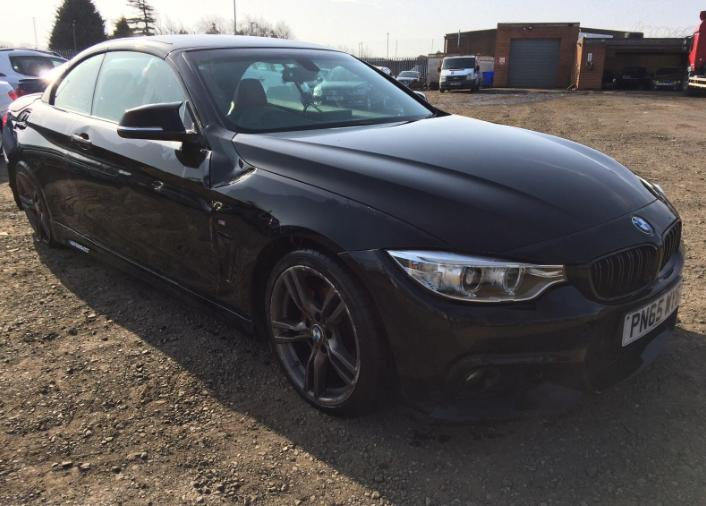Back-wheel: (15, 160, 69, 248)
Back-window: (54, 54, 103, 112)
Fender: (204, 123, 455, 317)
Front-bumper: (337, 248, 683, 423)
Front-door: (67, 44, 219, 299)
Front-wheel: (265, 248, 393, 416)
Front-window: (92, 51, 186, 122)
Grille: (568, 243, 659, 303), (661, 219, 682, 270)
Headlight: (383, 250, 569, 302)
Hood: (232, 114, 679, 264)
License-plate: (622, 281, 681, 348)
Mirror: (118, 101, 205, 166)
Quarter-panel: (2, 98, 90, 237)
Rocker-panel: (50, 219, 255, 339)
Roof: (86, 34, 338, 55)
Tail-light: (2, 112, 9, 128)
Trunk: (8, 92, 42, 111)
Windshield: (187, 48, 432, 133)
